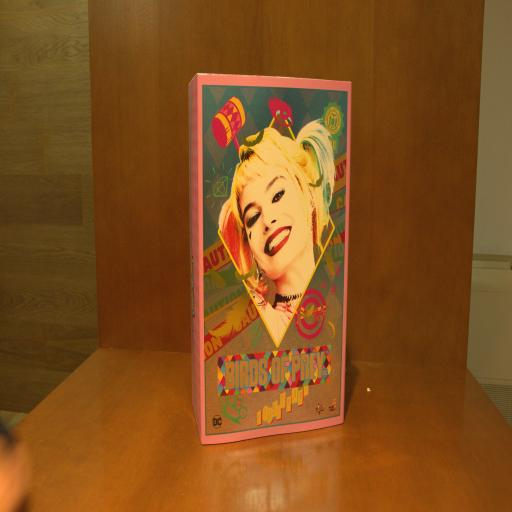Harley: (188, 71, 359, 439)
